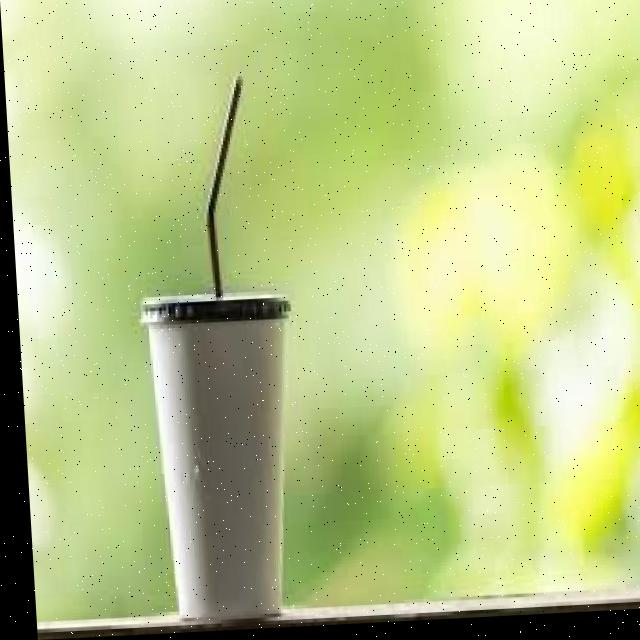cup: (145, 324, 279, 618)
